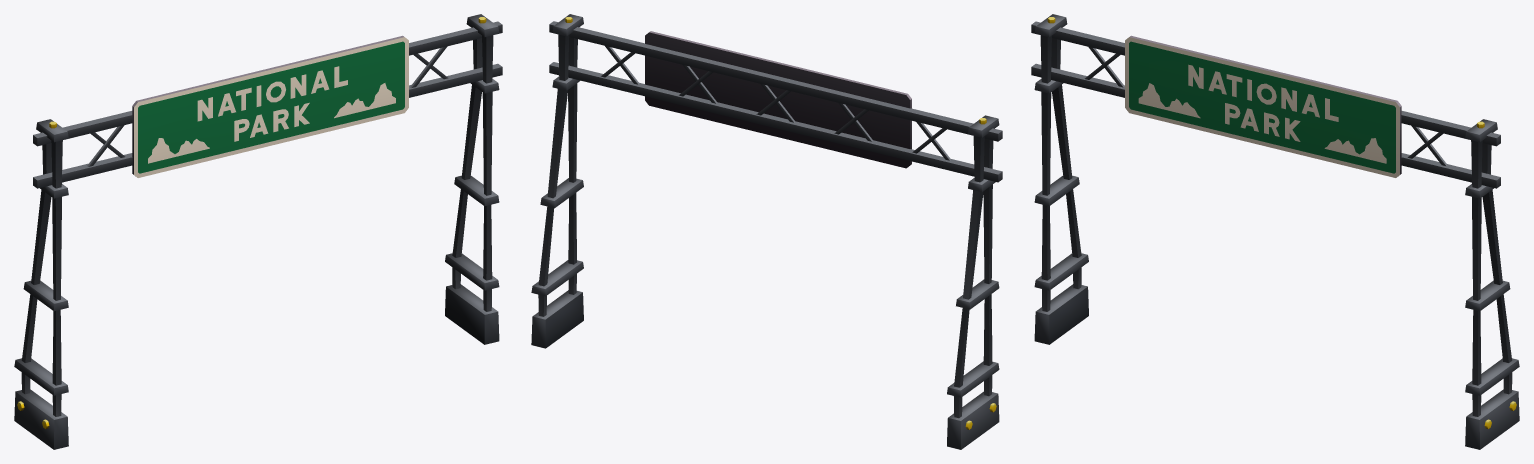
File: Streetsign_5A.fbx
The picture shows the model from 3 angles, left to right: view 1: azimuth 30°, elevation 25°; view 2: azimuth 150°, elevation 25°; view 3: azimuth 330°, elevation 25°; orthographic projection. The views are drawn at different scales.
Visible parts, largest first — view 1: Streetsign_5A, Streetsign_5A_Addon; view 2: Streetsign_5A, Streetsign_5A_Addon; view 3: Streetsign_5A, Streetsign_5A_Addon.
Part boxes in pixels (bbox=[...]): Streetsign_5A: bbox=[14, 14, 502, 449]; Streetsign_5A_Addon: bbox=[132, 35, 408, 177]; Streetsign_5A: bbox=[531, 14, 1002, 449]; Streetsign_5A_Addon: bbox=[645, 31, 911, 168]; Streetsign_5A: bbox=[1031, 14, 1519, 449]; Streetsign_5A_Addon: bbox=[1125, 35, 1401, 177].
Size of the model in its own units: 1729 by 1144 by 255.
